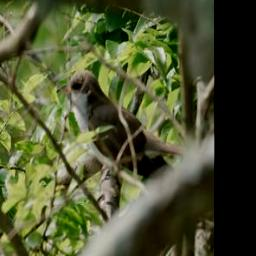Cuckoo: (57, 68, 189, 183)
